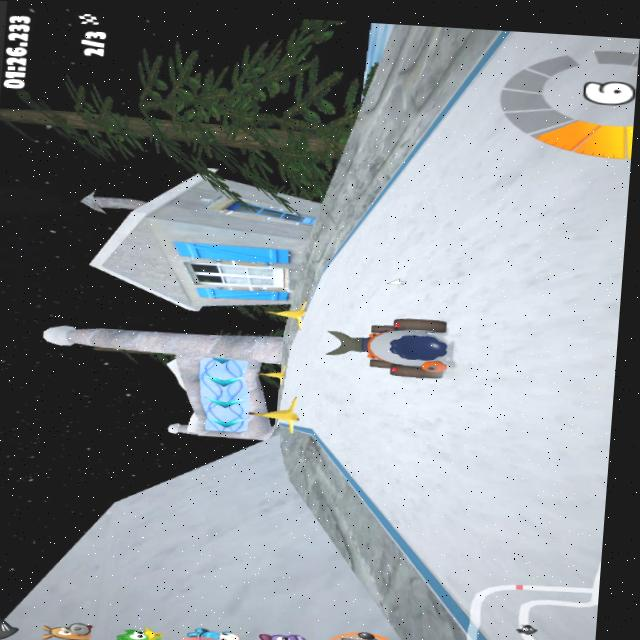obstacle: (252, 396, 308, 433), (271, 296, 323, 329), (251, 363, 288, 386)
player_kart: (315, 308, 454, 382)
